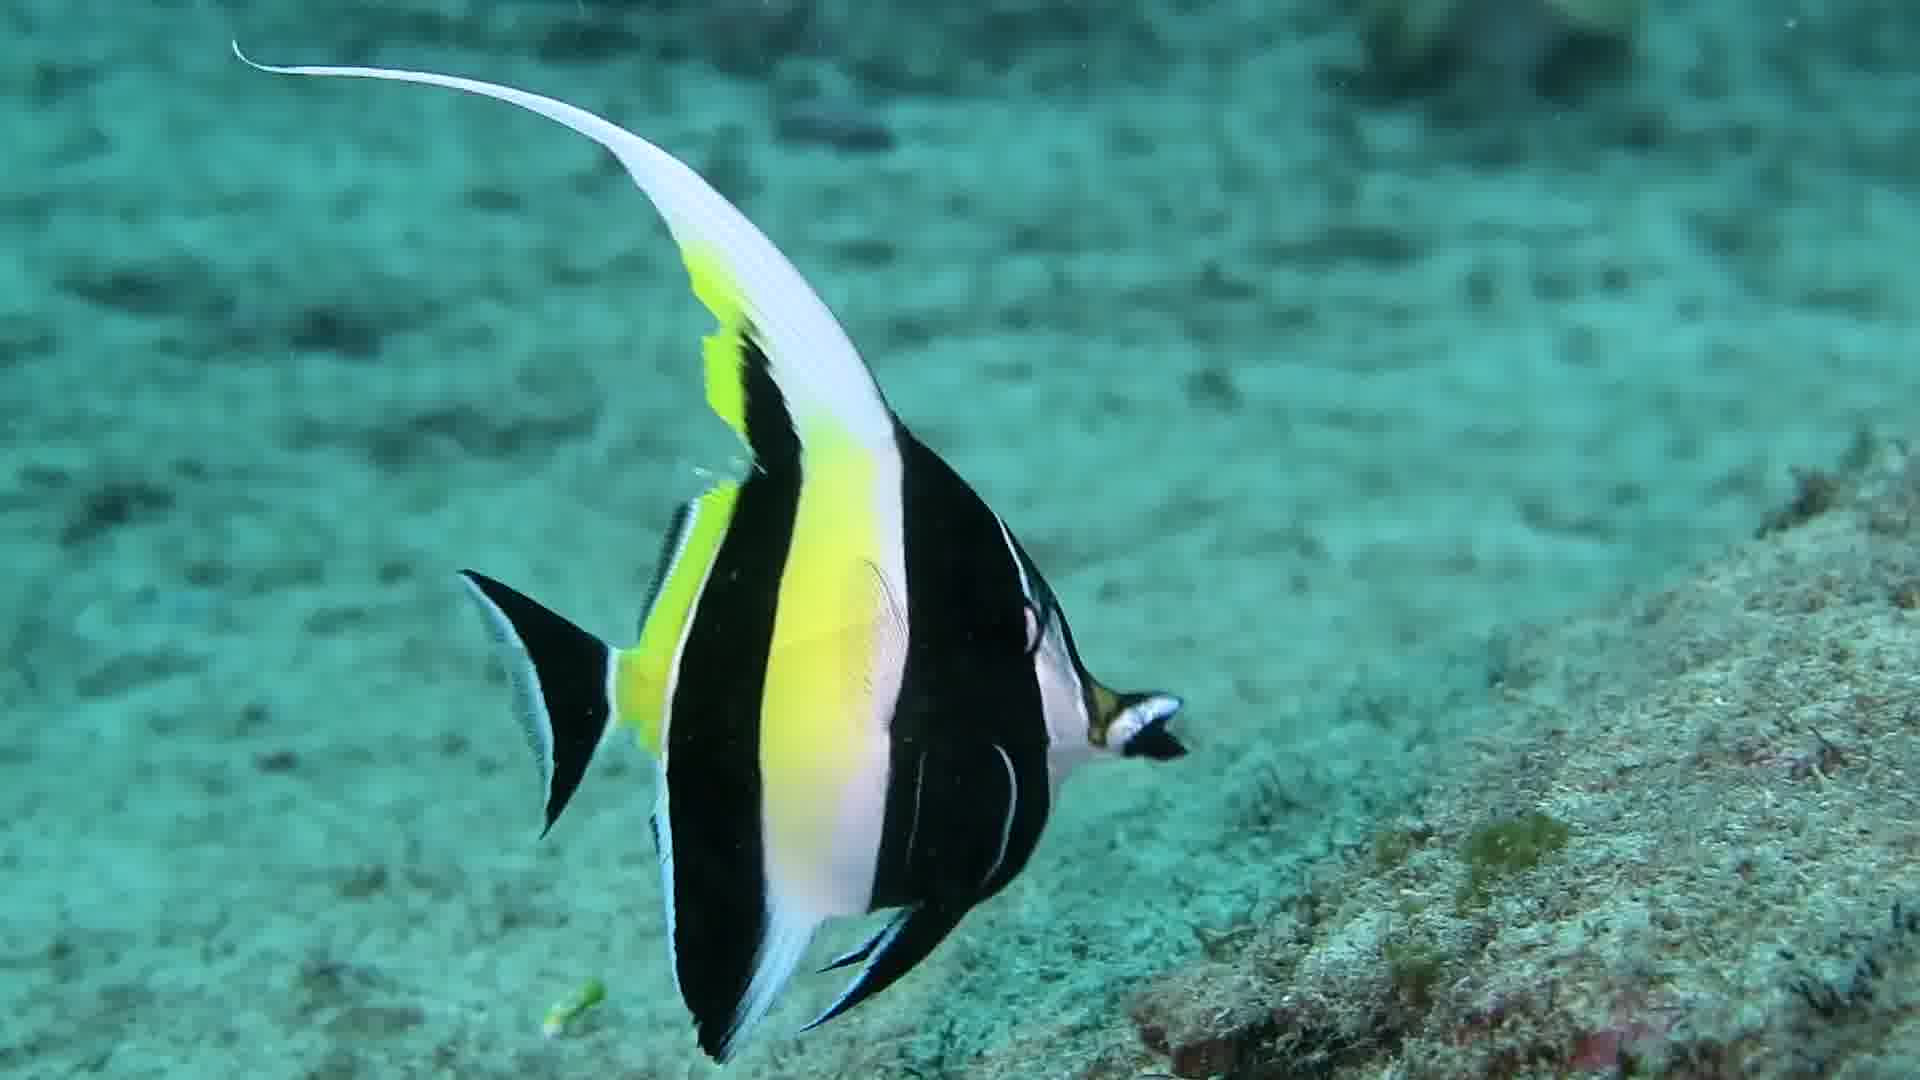Zanclus cornutus: (477, 286, 1209, 1059)
